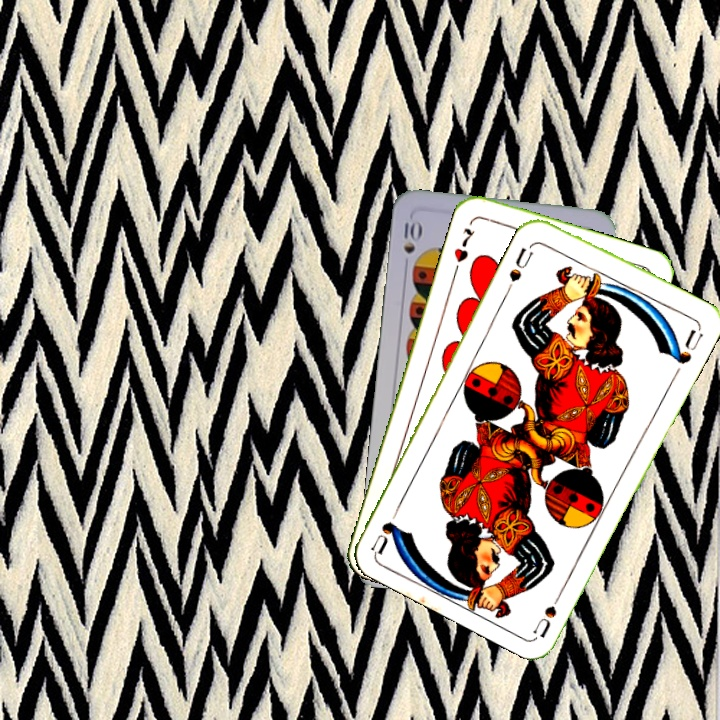H7: (449, 223, 478, 275)
S10: (400, 216, 423, 273)
SU: (529, 582, 568, 639), (504, 238, 538, 285)
